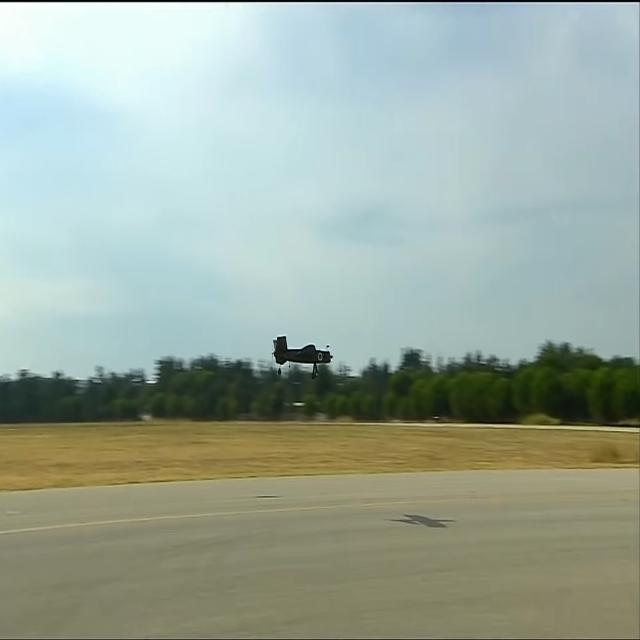iha: (271, 335, 334, 379)
